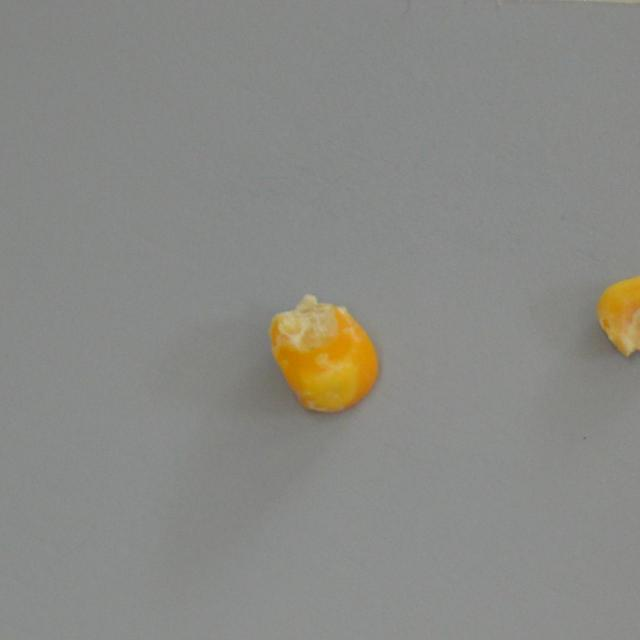dañado: (263, 286, 384, 422), (592, 268, 640, 360)
